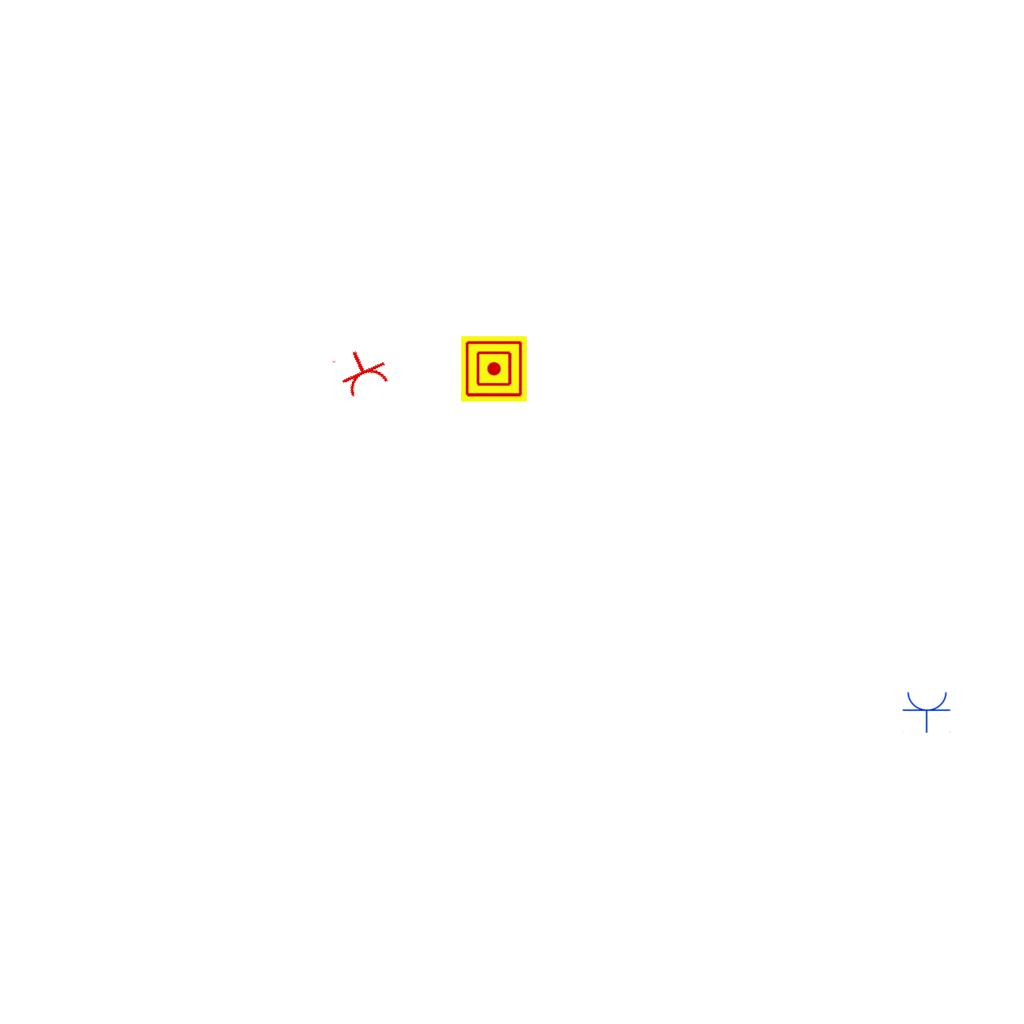NAM-Nichtautomatischer_Melder: (461, 336, 527, 402)
Schukosteckdose_einfach: (329, 341, 394, 401), (902, 690, 952, 733)
